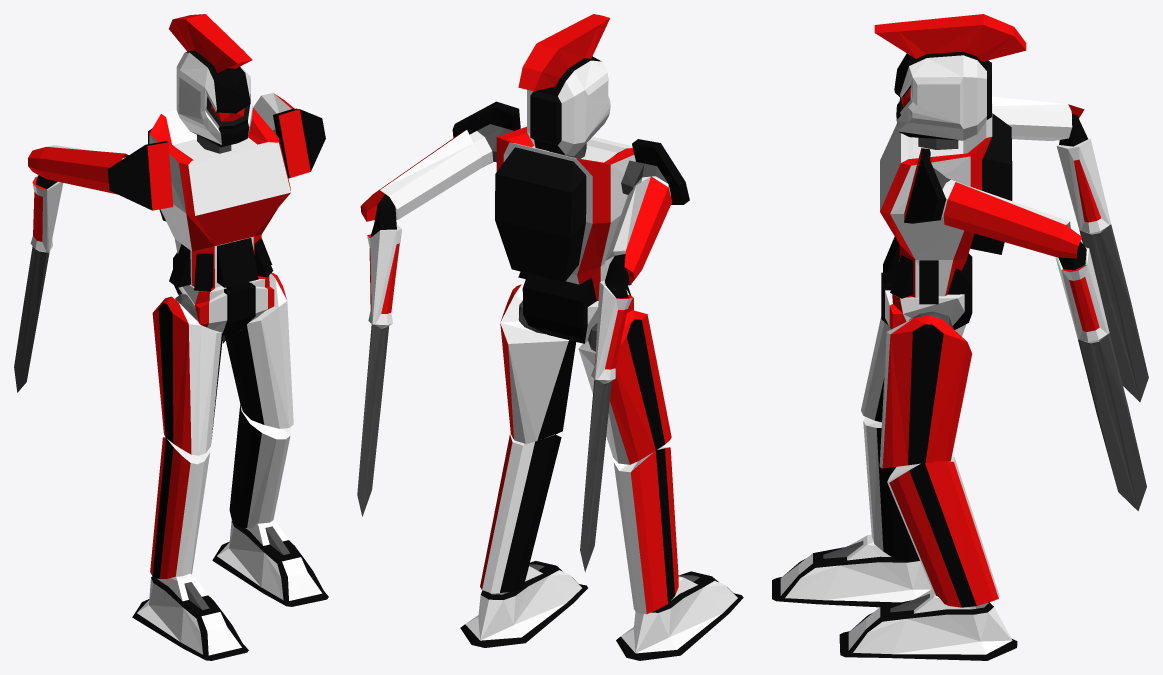
The model's file is robots_000006.obj.
The picture shows the model from 3 angles, left to right: view 1: azimuth 30°, elevation 25°; view 2: azimuth 150°, elevation 25°; view 3: azimuth 270°, elevation 25°; orthographic projection. The views are drawn at different scales.
Parts seen in each view (by area): view 1: Chest_plate_Cube.004, Head_gladiator_Cube.024, R_Thigh_Cube.005, R_Forearm.001_Cube.028, R_Thigh.002_Cube.027, R_Shin_Cube.007, R_Foot_Cube, R_Foot.002_Cube.035, R_Shin.002_Cube.029, Pelvis_Cube.006, R_Arm.002_Cube.032, R_Arm.003_Cube.034 (+1 smaller); view 2: Chest_plate_Cube.004, R_Forearm.002_Cube.033, R_Forearm.001_Cube.028, Head_gladiator_Cube.024, R_Shin_Cube.007, R_Thigh.002_Cube.027, R_Shin.002_Cube.029, R_Thigh_Cube.005, R_Foot_Cube, R_Foot.002_Cube.035, Pelvis_Cube.006, R_Arm.002_Cube.032 (+1 smaller); view 3: R_Forearm.002_Cube.033, Chest_plate_Cube.004, Head_gladiator_Cube.024, R_Thigh.002_Cube.027, R_Forearm.001_Cube.028, R_Shin.002_Cube.029, R_Foot.002_Cube.035, R_Foot_Cube, R_Shin_Cube.007, Pelvis_Cube.006, R_Arm.003_Cube.034, R_Thigh_Cube.005.
Part boxes in pixels (x1,y1,x2,y2): Chest_plate_Cube.004: (148,108,291,291); Head_gladiator_Cube.024: (169,14,252,147); R_Thigh_Cube.005: (152,296,222,455); R_Forearm.001_Cube.028: (14,145,128,392); R_Thigh.002_Cube.027: (224,272,293,428); R_Shin_Cube.007: (150,437,210,578); R_Foot_Cube: (132,573,248,660); R_Foot.002_Cube.035: (212,520,328,606); R_Shin.002_Cube.029: (229,404,290,528); Pelvis_Cube.006: (173,252,274,335); R_Arm.002_Cube.032: (107,141,173,210); R_Arm.003_Cube.034: (273,108,325,178); Chest_plate_Cube.004: (495,126,635,300); R_Forearm.002_Cube.033: (357,130,482,516); R_Forearm.001_Cube.028: (580,176,672,572); Head_gladiator_Cube.024: (518,14,610,156); R_Shin_Cube.007: (613,446,678,614); R_Thigh.002_Cube.027: (500,283,576,443); R_Shin.002_Cube.029: (480,432,561,592); R_Thigh_Cube.005: (578,310,671,464); R_Foot_Cube: (616,571,743,660); R_Foot.002_Cube.035: (460,561,587,647); Pelvis_Cube.006: (522,273,633,343); R_Arm.002_Cube.032: (621,139,689,204); R_Forearm.002_Cube.033: (943,182,1146,511); Chest_plate_Cube.004: (880,104,1012,304); Head_gladiator_Cube.024: (874,14,1026,140); R_Thigh.002_Cube.027: (879,315,972,468); R_Forearm.001_Cube.028: (992,96,1148,402); R_Shin.002_Cube.029: (887,455,999,607); R_Foot.002_Cube.035: (839,589,1017,660); R_Foot_Cube: (772,534,931,607); R_Shin_Cube.007: (863,417,919,561); Pelvis_Cube.006: (881,253,972,329); R_Arm.003_Cube.034: (904,148,958,223); R_Thigh_Cube.005: (861,316,966,422).
Bounding box in the file's own units: 1.51 × 3.19 × 1.79.
